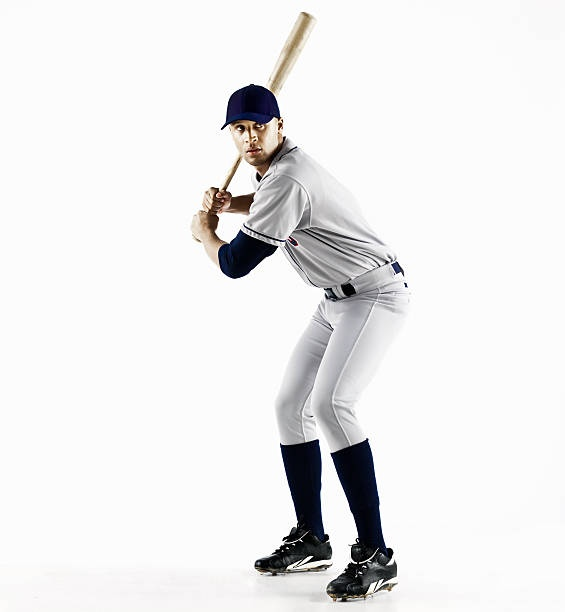bita: (194, 152, 247, 244), (260, 1, 310, 96)
